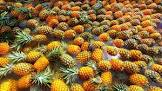Pineapple: (35, 47, 64, 71), (1, 63, 36, 76)
